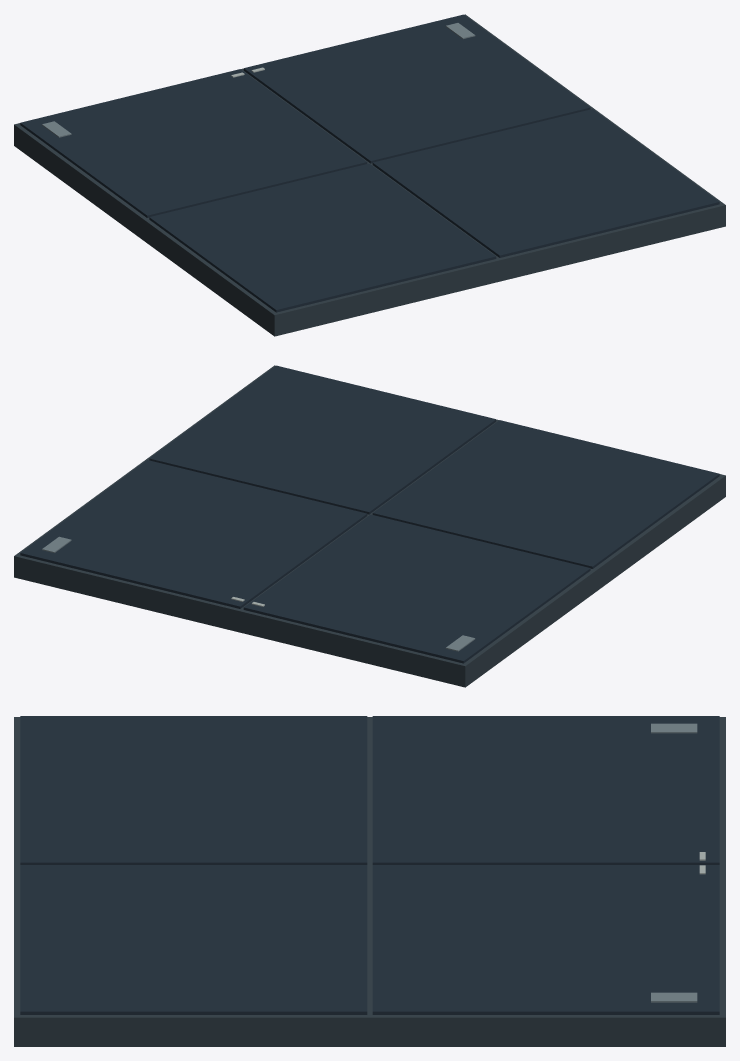
File: deck-module.glb
3 views of the same model, one above another, from view 1: azimuth 30°, elevation 25°; view 2: azimuth 150°, elevation 25°; view 3: azimuth 270°, elevation 25° (orthographic). The views are drawn at different scales.
Parts seen in each view (by area): view 1: Deck tile 4m / Graphite polymer, Deck tile 4m / Gunmetal; view 2: Deck tile 4m / Graphite polymer, Deck tile 4m / Gunmetal; view 3: Deck tile 4m / Graphite polymer, Deck tile 4m / Gunmetal, Deck tile 4m / Brushed titanium.
Part boxes in pixels (<box>): Deck tile 4m / Graphite polymer: <box>20,14,719,312</box>; Deck tile 4m / Gunmetal: <box>14,14,725,336</box>; Deck tile 4m / Graphite polymer: <box>20,365,719,663</box>; Deck tile 4m / Gunmetal: <box>14,365,725,687</box>; Deck tile 4m / Graphite polymer: <box>20,716,719,1014</box>; Deck tile 4m / Gunmetal: <box>14,717,725,1046</box>; Deck tile 4m / Brushed titanium: <box>651,723,697,1002</box>.
Size of the model in its own units: 3.98 by 0.2105 by 3.98.
